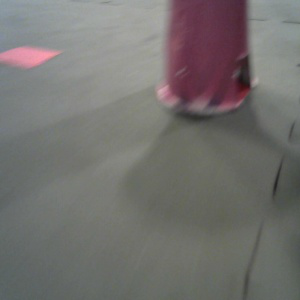right: (153, 1, 259, 118)
